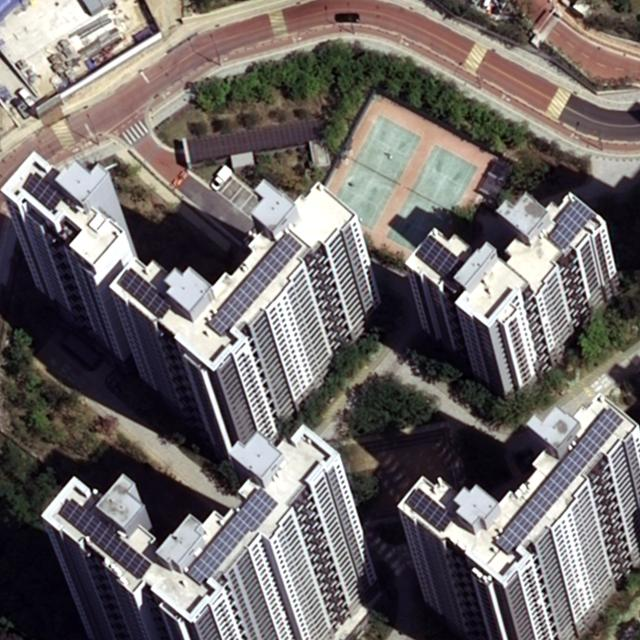panel: (491, 406, 625, 557), (205, 231, 303, 337), (186, 488, 279, 585), (59, 499, 154, 580), (116, 268, 173, 321), (545, 198, 597, 251), (413, 235, 466, 281), (405, 487, 455, 533), (24, 172, 66, 212)
